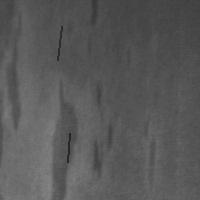inclusion: (49, 77, 80, 198), (1, 1, 29, 132), (90, 114, 117, 180), (139, 115, 160, 192), (90, 79, 107, 120), (85, 1, 102, 31), (55, 24, 63, 62), (65, 131, 71, 164)
